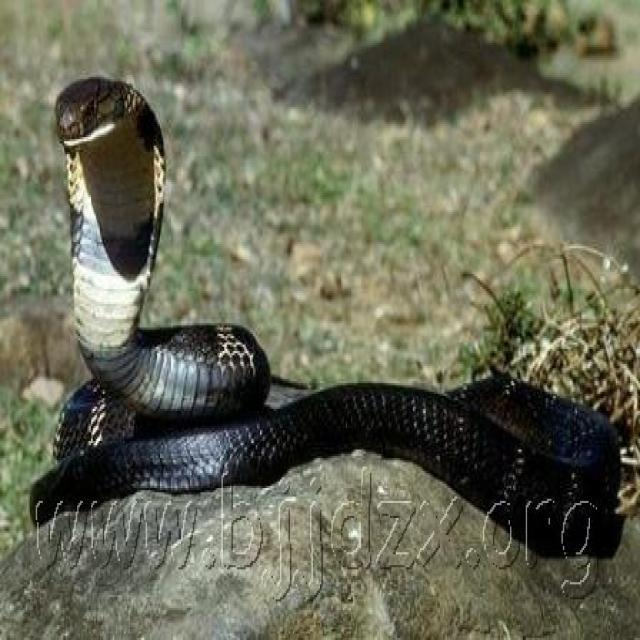Snake: (27, 73, 624, 561)
